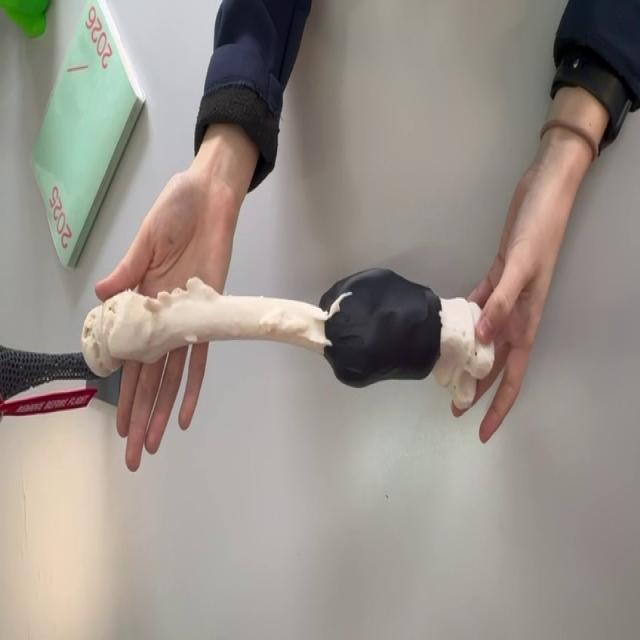bones: (82, 270, 494, 409)
